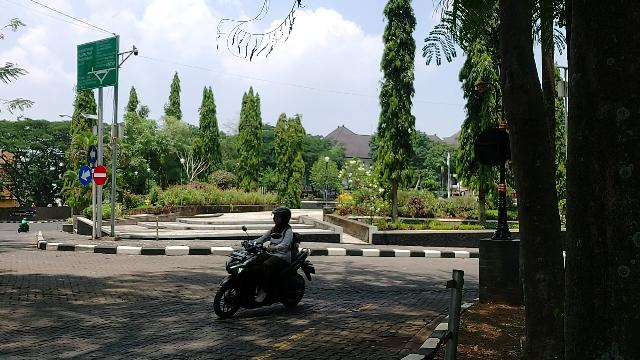helm: (271, 207, 294, 228)
motor: (215, 225, 318, 321)
